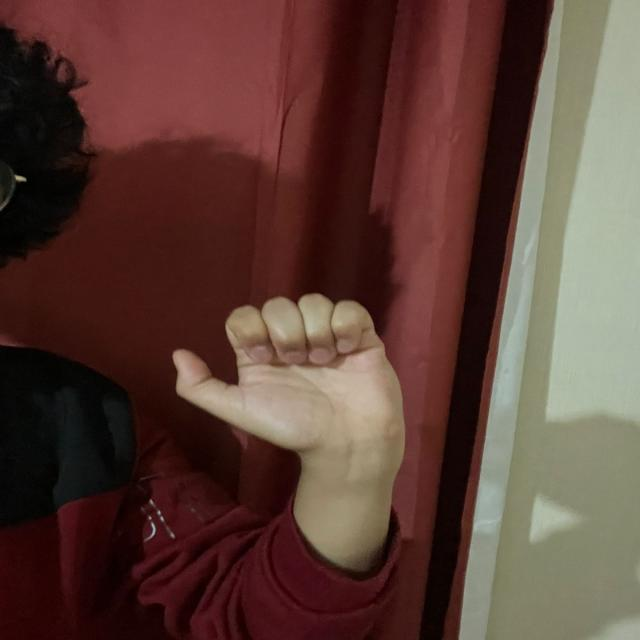E: (163, 286, 412, 446)
